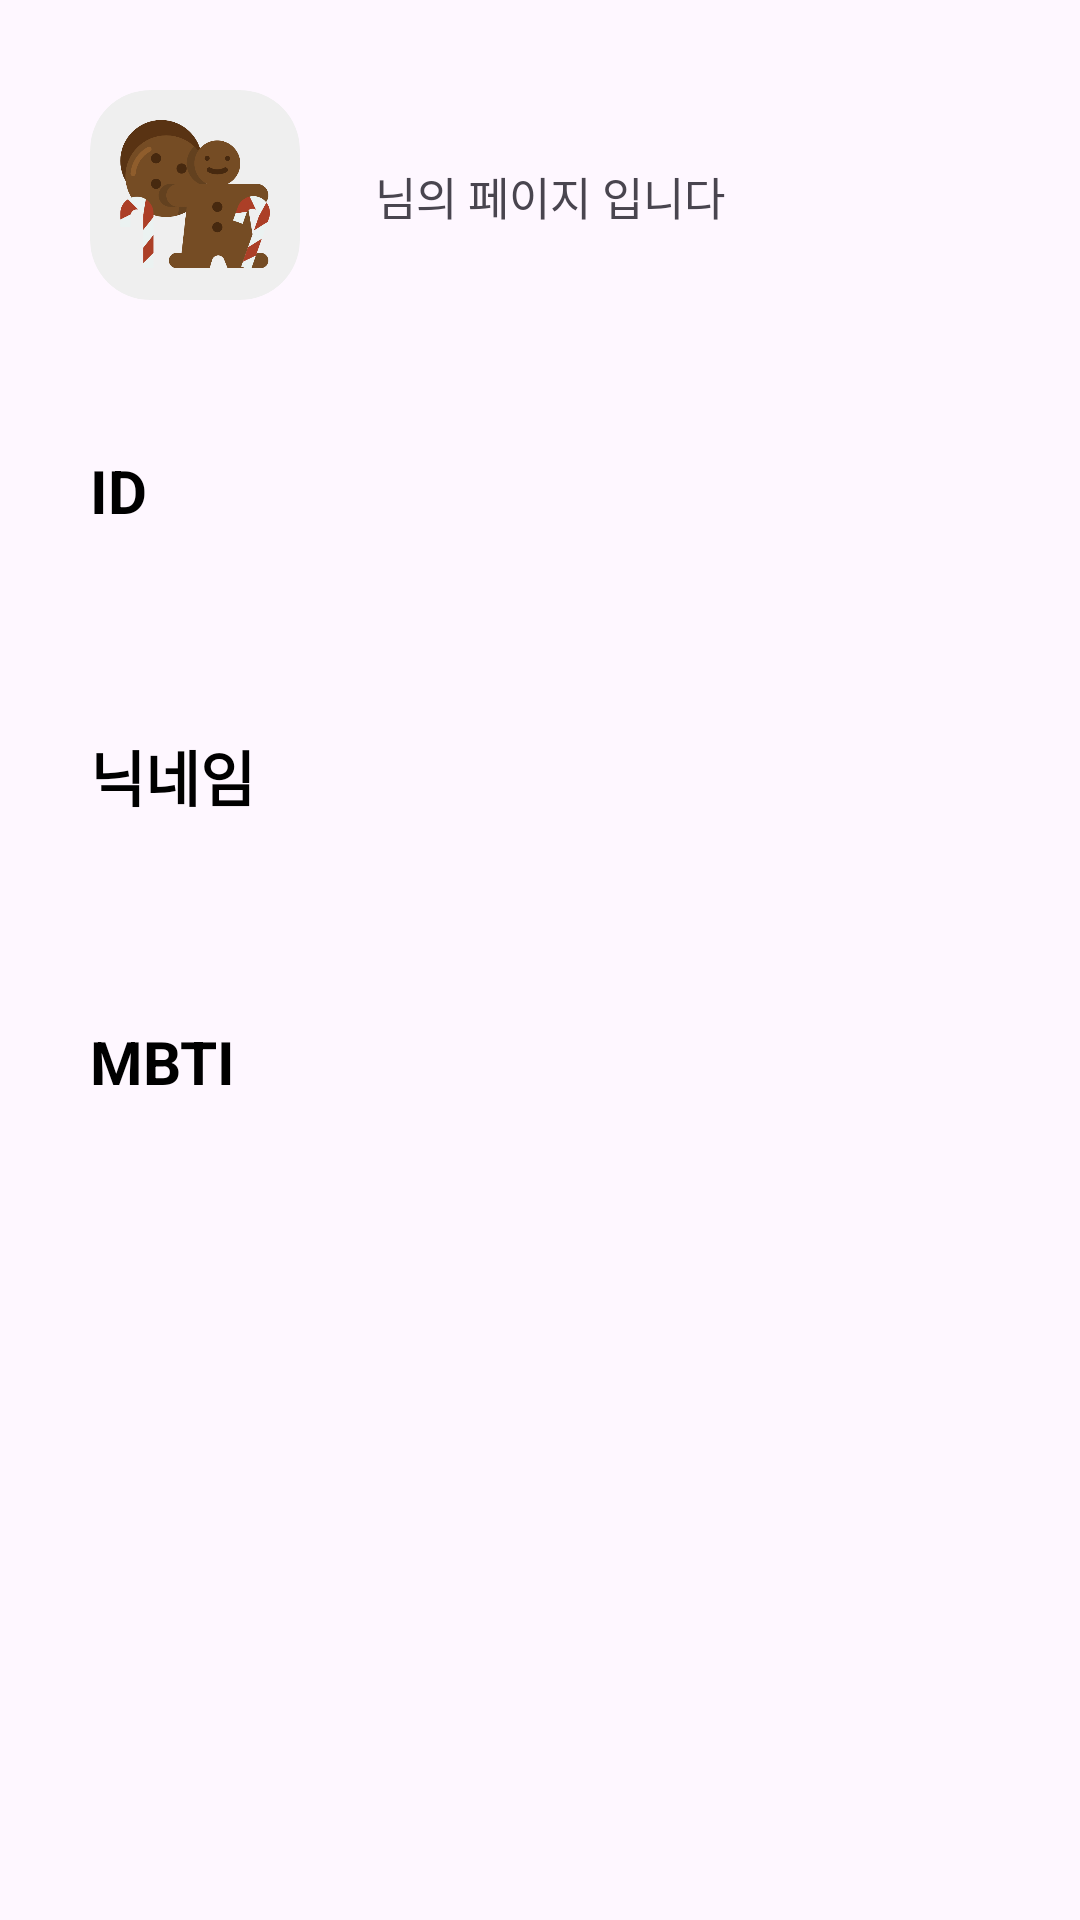

Icon click points for this 1080*1920 phone screenshot, format (x=x, y=y):
gingerbread: (x=195, y=194)
